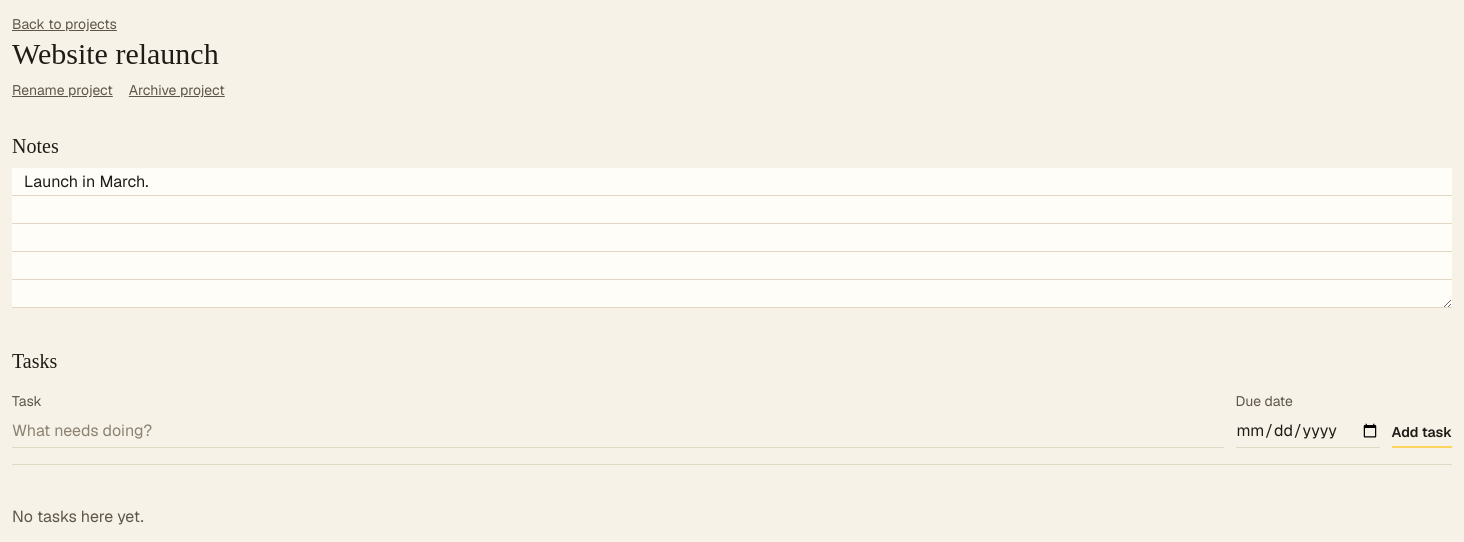
Test: Project screen › adds a task with a due date
The width and height of the screenshot is (1464, 542).
Type "Pick a hosting plan" into the field labelled "Task" at [618, 432], box [12, 415, 1224, 448]
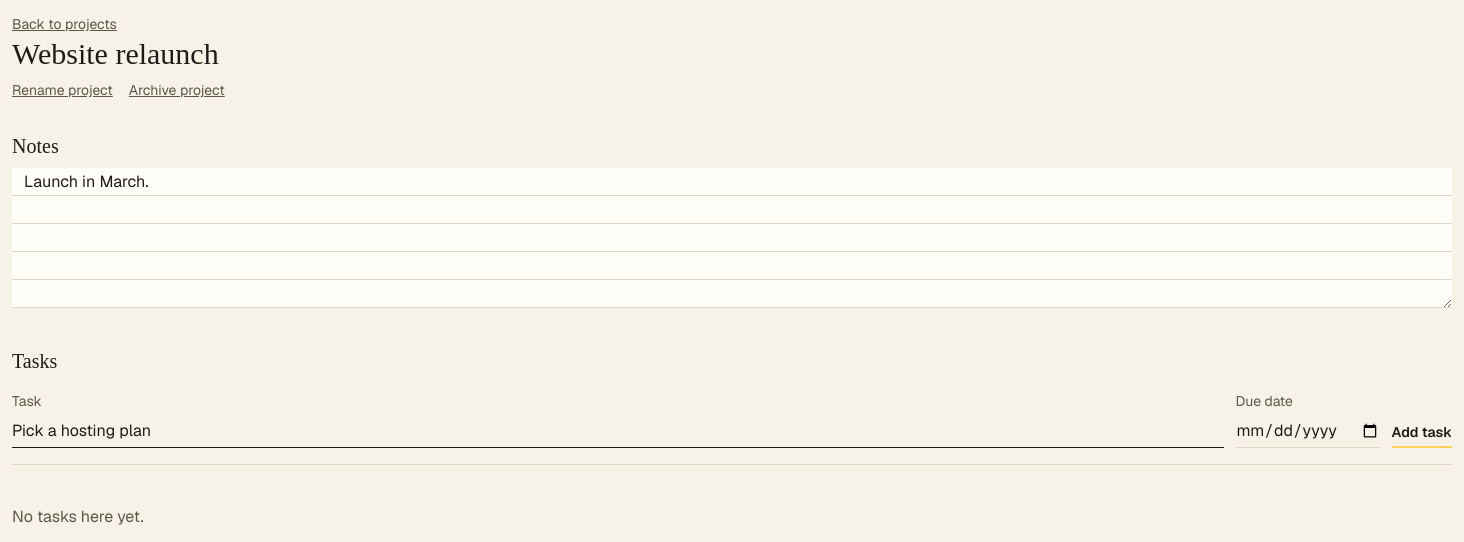
Type "2026-09-18" into the date field labelled "Due date" at [1308, 432], box [1236, 415, 1380, 448]
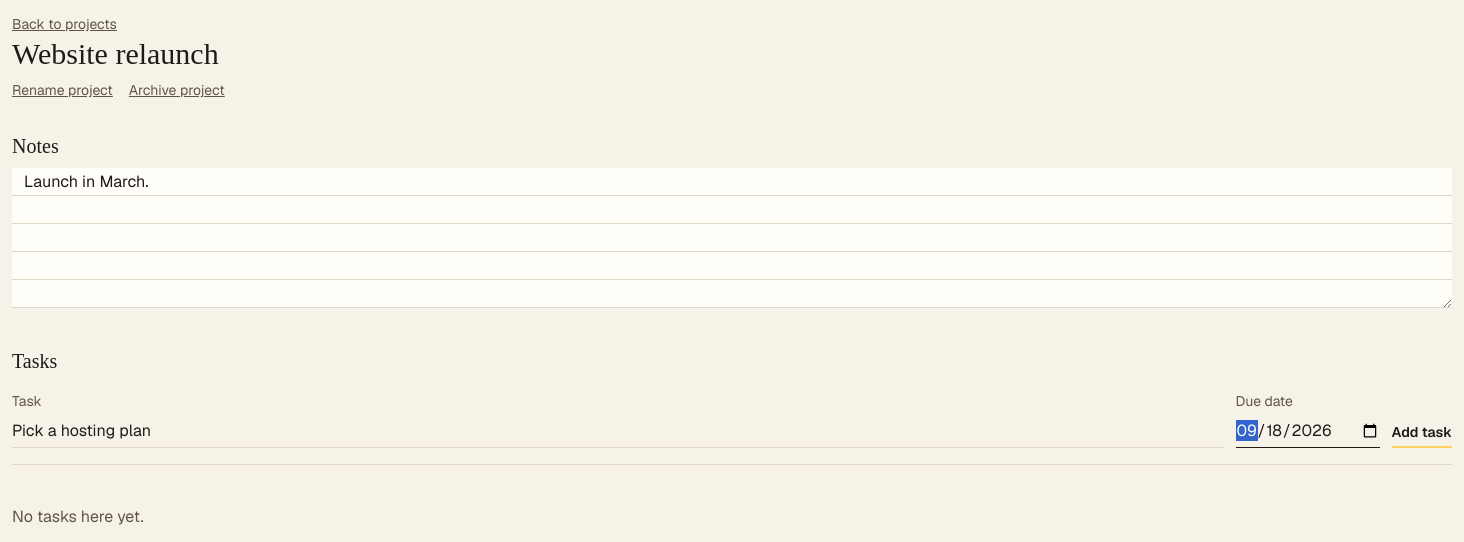
Click the button "Add task" at [1422, 433], box [1392, 418, 1452, 448]
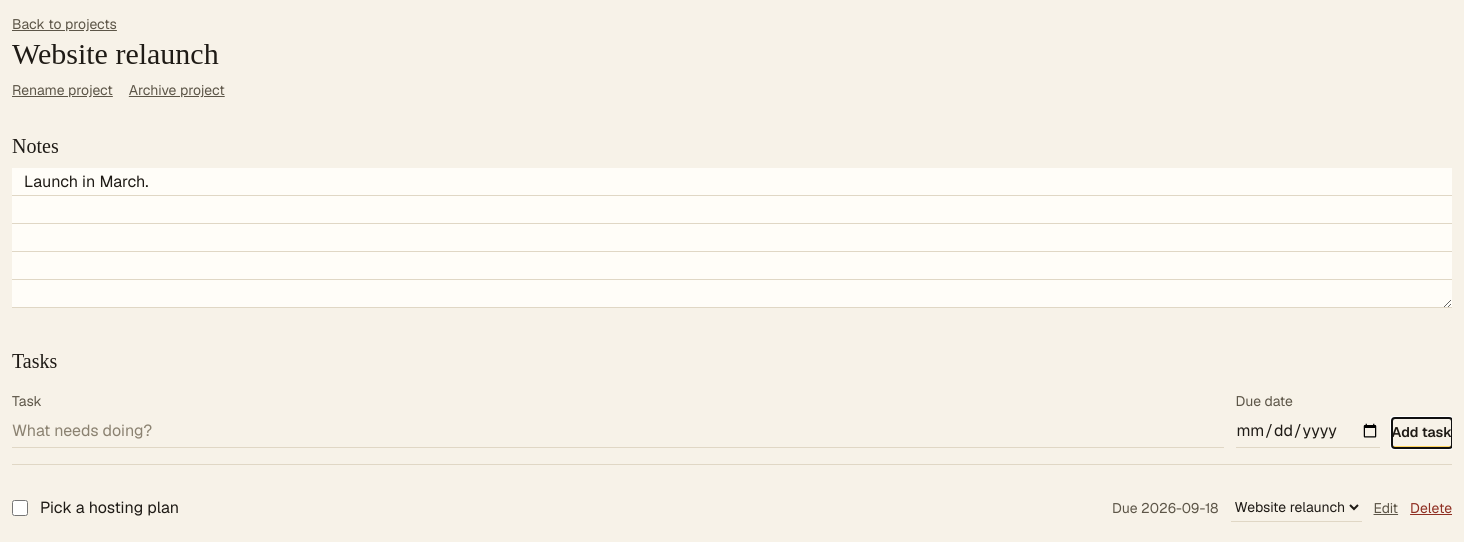
Expected: the checkbox labelled "Pick a hosting plan" is not checked, [12, 500, 28, 516]
Expected: the text "Due 2026-09-18" is shown, [1112, 498, 1218, 518]
Expected: the field labelled "Task" is empty, [12, 415, 1224, 448]
